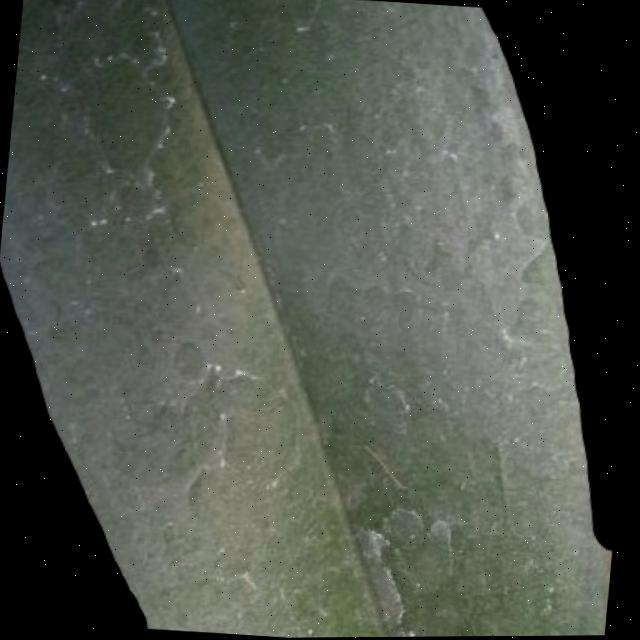mite: (373, 502, 471, 603), (169, 339, 212, 387)
